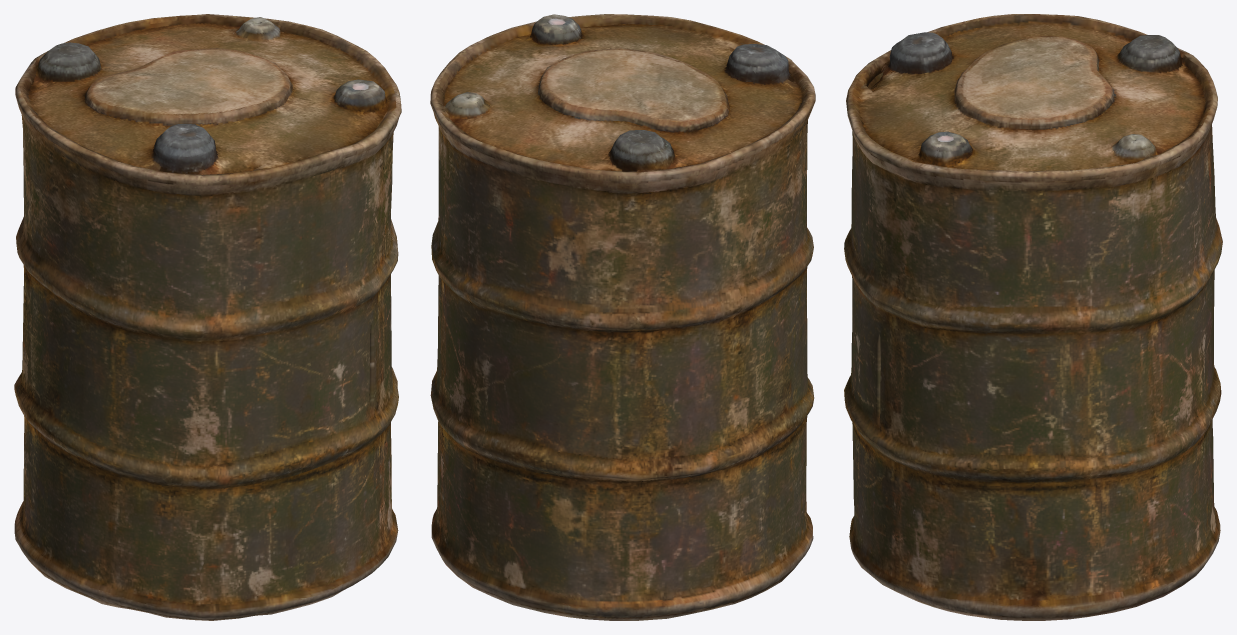
The model's file is oil_barrel_threeview_candidate.glb.
The picture shows the model from 3 angles, left to right: view 1: azimuth 30°, elevation 25°; view 2: azimuth 150°, elevation 25°; view 3: azimuth 270°, elevation 25°; orthographic projection.
Parts seen in each view (by area): view 1: oil_barrel_threeview_candidate; view 2: oil_barrel_threeview_candidate; view 3: oil_barrel_threeview_candidate.
Boxes of the visible parts, left/top/right/bottom form: oil_barrel_threeview_candidate: left=14, top=14, right=401, bottom=620; oil_barrel_threeview_candidate: left=430, top=14, right=815, bottom=620; oil_barrel_threeview_candidate: left=844, top=14, right=1222, bottom=620.
Size of the model in its own units: 0.6592 by 0.9022 by 0.6565.
Materials: 1 (1 with a texture image).
